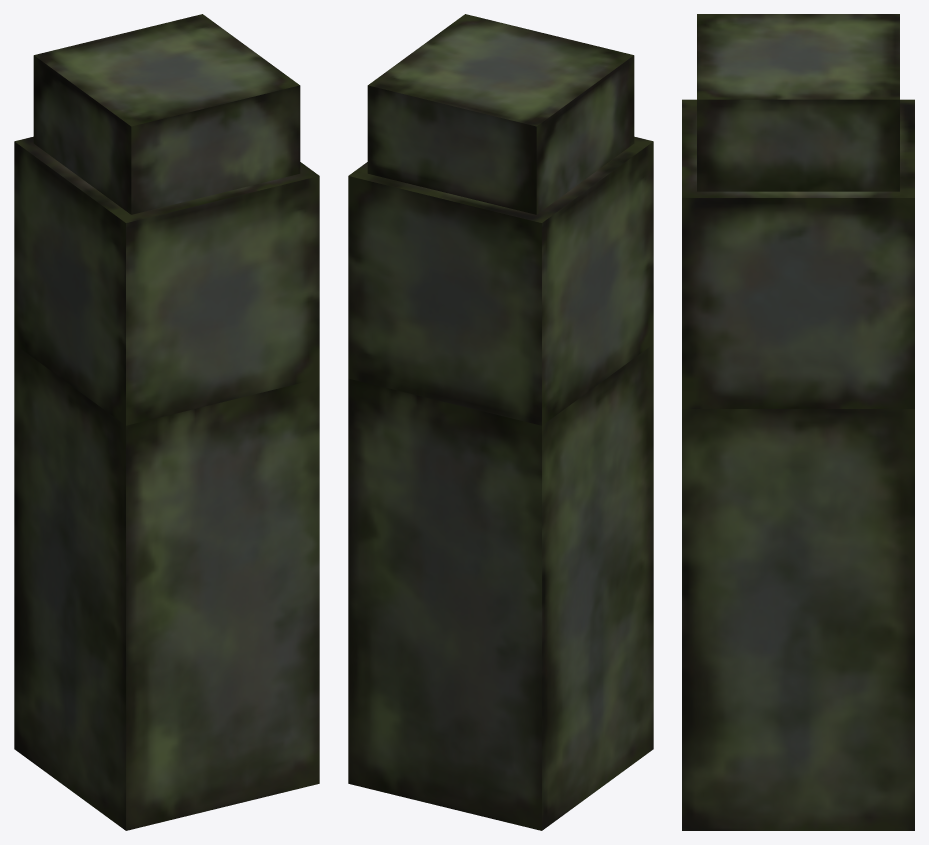
Rendered from pillar-02.fbx.
The picture shows the model from 3 angles, left to right: view 1: azimuth 30°, elevation 25°; view 2: azimuth 150°, elevation 25°; view 3: azimuth 270°, elevation 25°; orthographic projection. The views are drawn at different scales.
Parts seen in each view (by area): view 1: pillar_2; view 2: pillar_2; view 3: pillar_2.
Boxes of the visible parts, box(x1,y1,x2,y2) form: pillar_2: box(14, 14, 319, 830); pillar_2: box(348, 14, 653, 830); pillar_2: box(682, 14, 914, 830).
Size of the model in its own units: 100 by 344 by 100.
